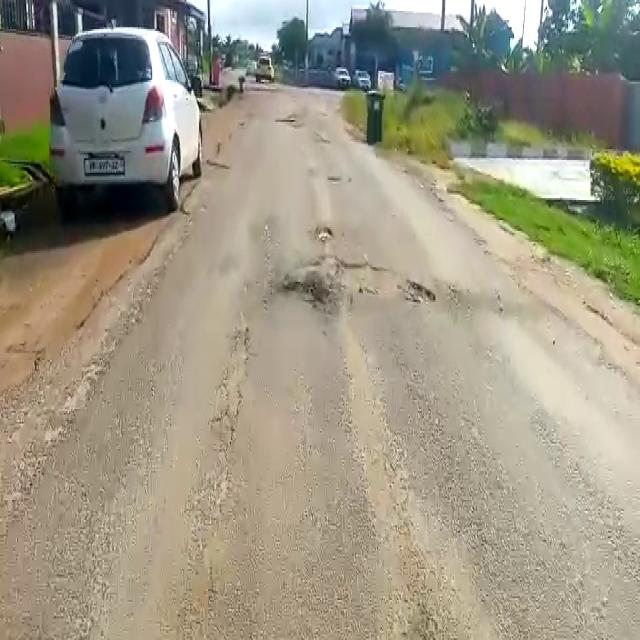Pothole: (338, 256, 451, 307), (281, 270, 332, 310), (315, 223, 335, 245)
